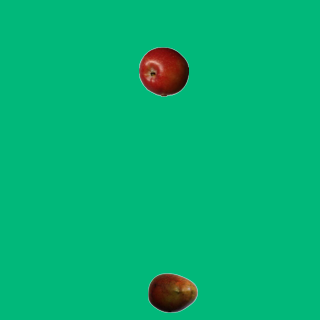Apple Braeburn: (138, 46, 188, 96)
Mango Red: (147, 267, 197, 317)
